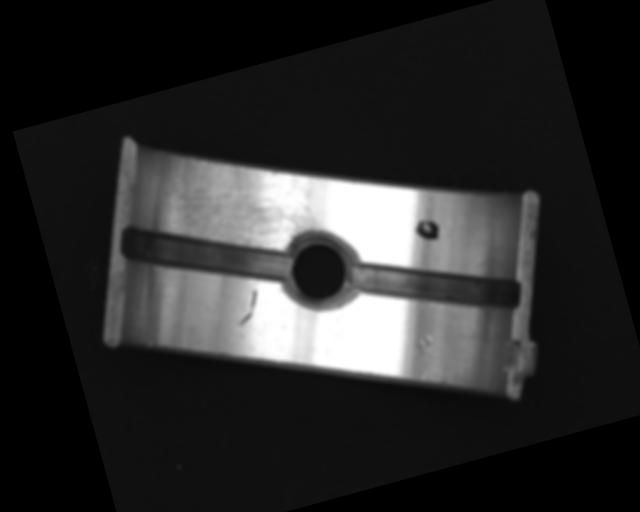blot: (412, 215, 442, 244)
bruise: (411, 331, 441, 362)
gap: (116, 188, 297, 319), (350, 225, 523, 344)
hole: (274, 224, 365, 315)
nick: (229, 287, 264, 327)
scratch: (155, 125, 328, 280)
